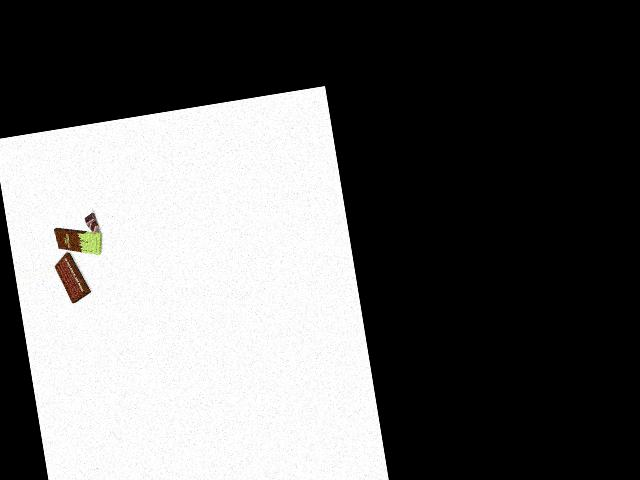chocolate: (53, 224, 106, 259)
